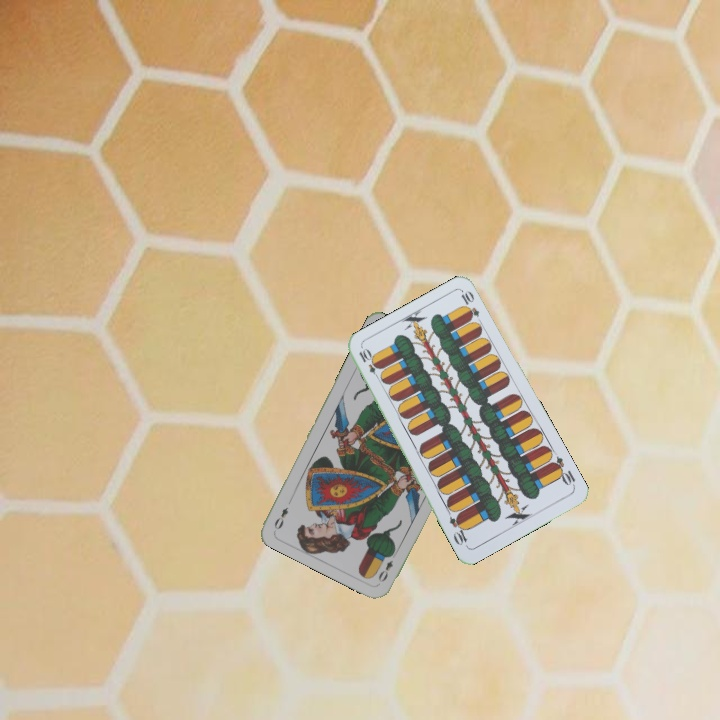E10: (547, 452, 578, 490), (355, 345, 384, 383)
EO: (374, 547, 399, 585)
